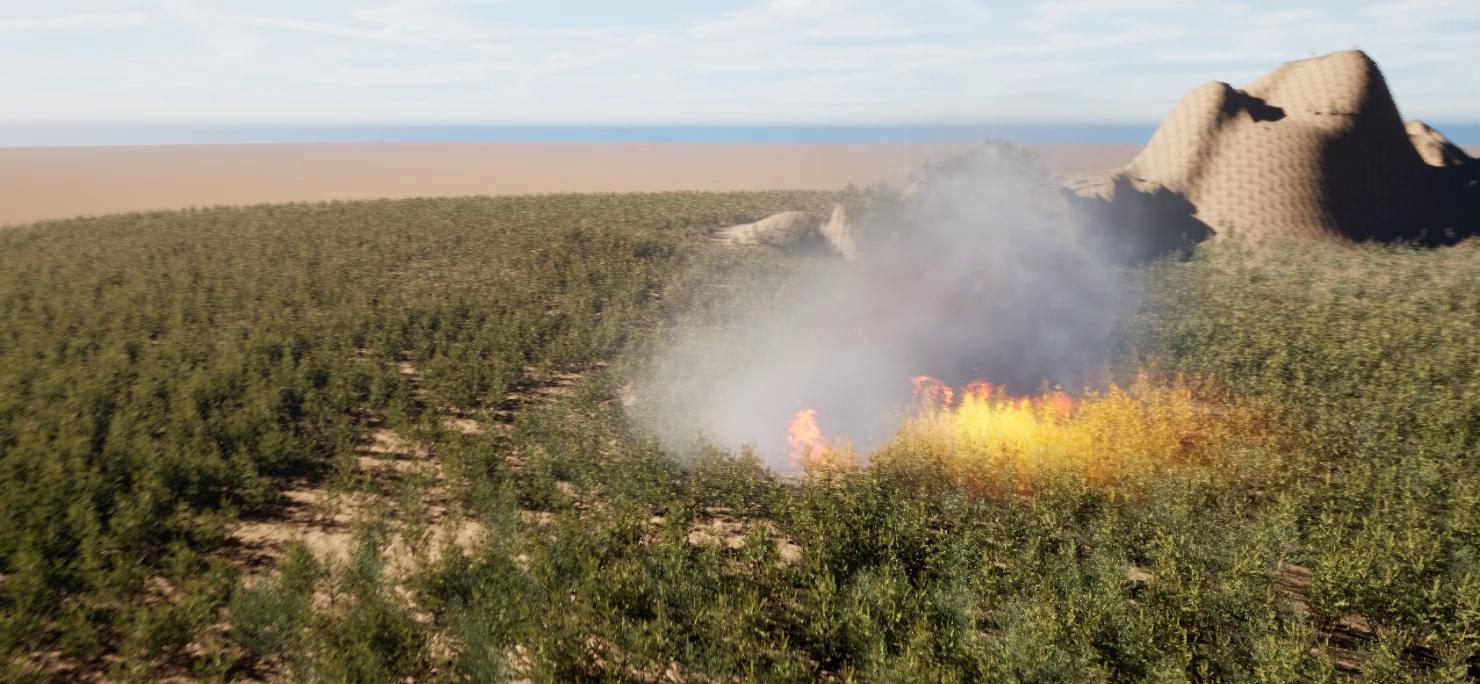fire: (904, 362, 1251, 476), (783, 407, 866, 471)
smoke: (622, 135, 1153, 477)
